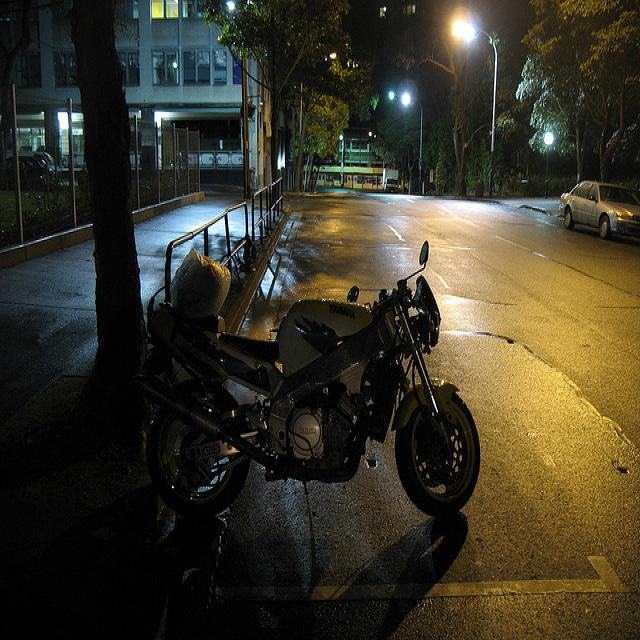Motorbike: (125, 242, 518, 575)
car: (556, 170, 640, 269)
